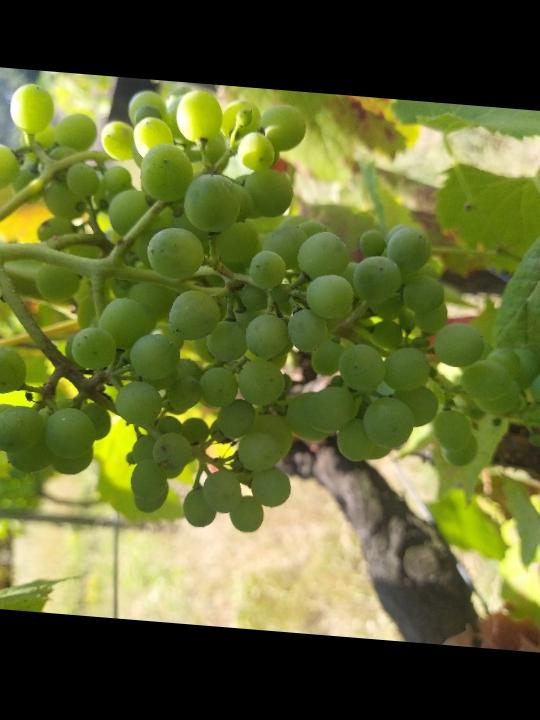grape: (0, 69, 540, 563)
